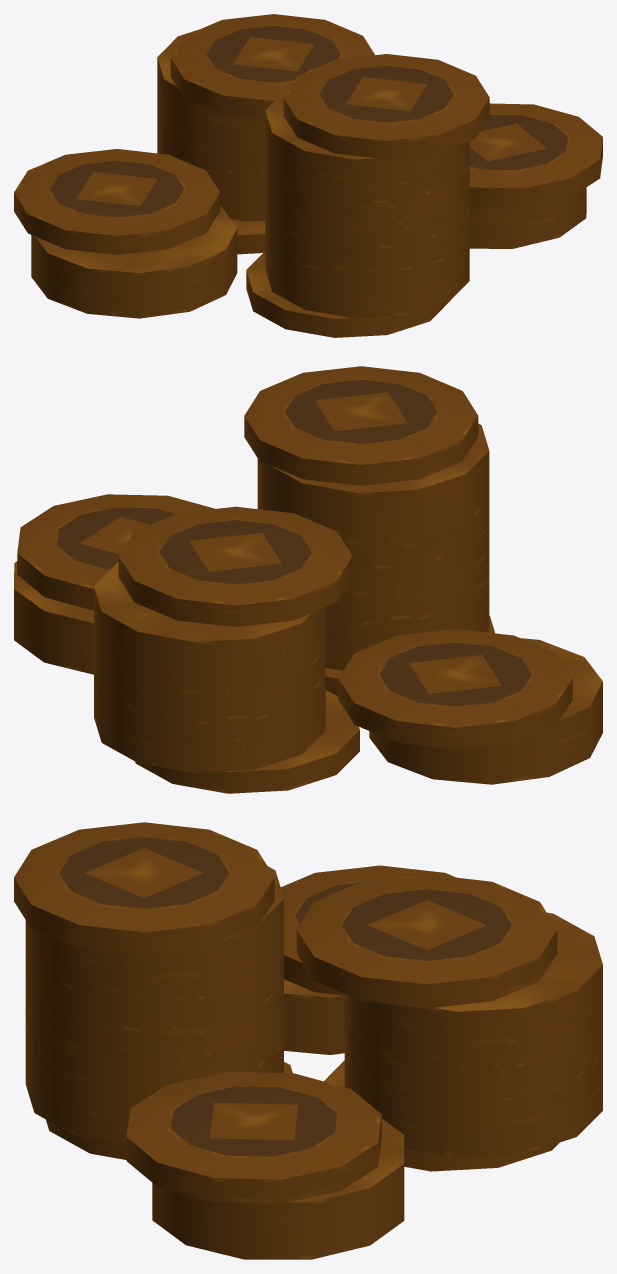
File: coin_pile.glb
The picture shows the model from 3 angles, top to bottom: view 1: azimuth 30°, elevation 25°; view 2: azimuth 150°, elevation 25°; view 3: azimuth 270°, elevation 25°; orthographic projection. The views are drawn at different scales.
Visible parts, largest first — view 1: Coin_Pile; view 2: Coin_Pile; view 3: Coin_Pile.
Part boxes in pixels (bbox=[...]): Coin_Pile: bbox=[14, 14, 602, 337]; Coin_Pile: bbox=[14, 366, 602, 793]; Coin_Pile: bbox=[14, 822, 602, 1259].
Bounding box in the file's own units: 0.1975 × 0.0735 × 0.1542.
1 material, 1 textured.
